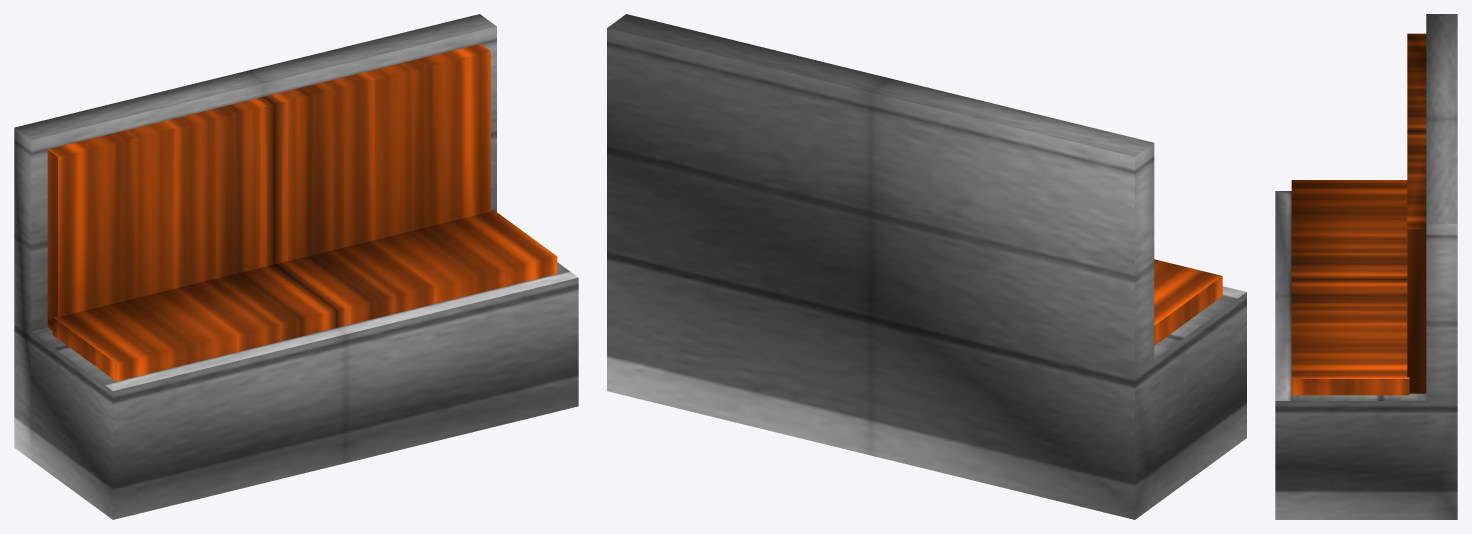
The model's file is bench.fbx.
The picture shows the model from 3 angles, left to right: view 1: azimuth 30°, elevation 25°; view 2: azimuth 150°, elevation 25°; view 3: azimuth 270°, elevation 25°; orthographic projection. The views are drawn at different scales.
Visible parts, largest first — view 1: Bench; view 2: Bench; view 3: Bench.
Boxes of the visible parts, x1=… form: Bench: x1=14, y1=14, x2=578, y2=519; Bench: x1=607, y1=14, x2=1246, y2=519; Bench: x1=1275, y1=14, x2=1457, y2=519.
Bounding box in the file's own units: 993 × 652 × 364.
Materials: 2 (2 with a texture image).
